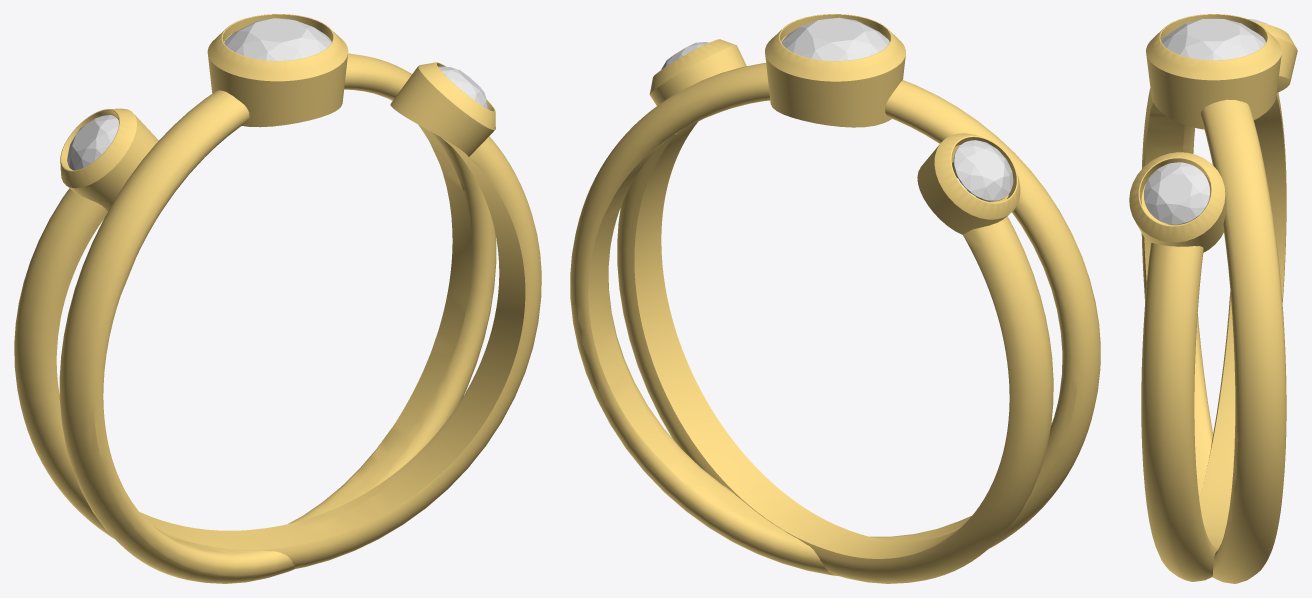
The model's file is EvanYGorbitring_blender.glb.
3 renders of one model, left to right at view 1: azimuth 30°, elevation 25°; view 2: azimuth 150°, elevation 25°; view 3: azimuth 270°, elevation 25°, orthographic. The views are drawn at different scales.
Parts seen in each view (by area): view 1: Evan YG for 3d model, Evan dia for 3d model.002, Evan dia for 3d model, Evan dia for 3d model.001; view 2: Evan YG for 3d model, Evan dia for 3d model.002, Evan dia for 3d model; view 3: Evan YG for 3d model, Evan dia for 3d model.001, Evan dia for 3d model.002.
Boxes of the visible parts, box(x1,y1,x2,y2) form: Evan YG for 3d model: box(14, 14, 541, 583); Evan dia for 3d model.002: box(224, 18, 331, 60); Evan dia for 3d model: box(67, 115, 118, 170); Evan dia for 3d model.001: box(438, 66, 488, 109); Evan YG for 3d model: box(570, 14, 1100, 583); Evan dia for 3d model.002: box(781, 17, 889, 60); Evan dia for 3d model: box(953, 140, 1013, 201); Evan YG for 3d model: box(1129, 14, 1297, 583); Evan dia for 3d model.001: box(1144, 162, 1210, 224); Evan dia for 3d model.002: box(1161, 18, 1265, 60).
Bounding box in the file's own units: 20 × 21.81 × 6.29.
